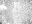person: (1, 4, 6, 11)
